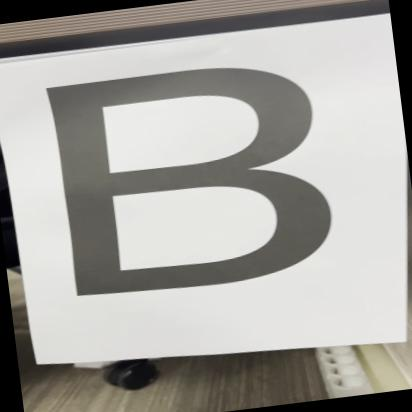seat: (19, 39, 362, 320)
